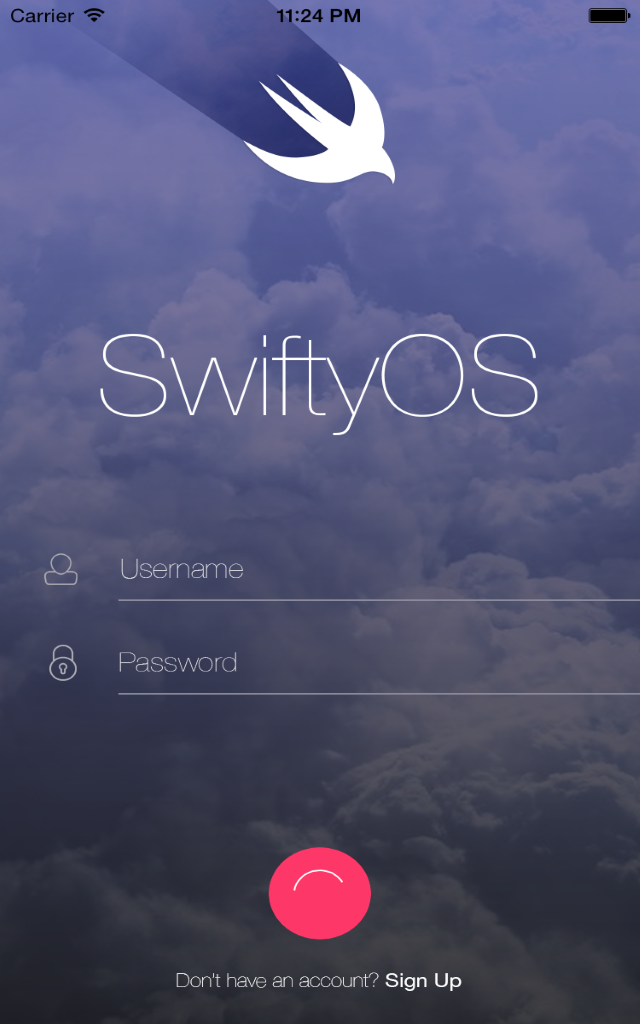label_Username: (117, 552, 252, 588)
label_password: (117, 641, 249, 680)
textbox: (113, 633, 605, 689), (117, 546, 602, 597)
